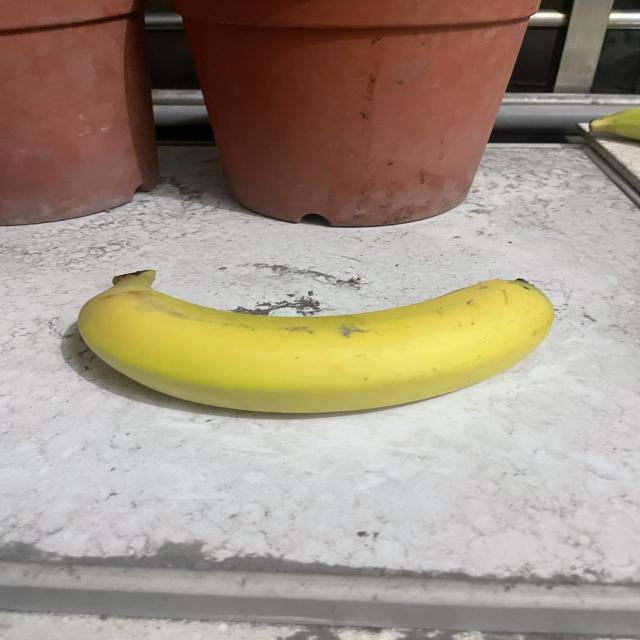banana: (56, 257, 562, 421)
